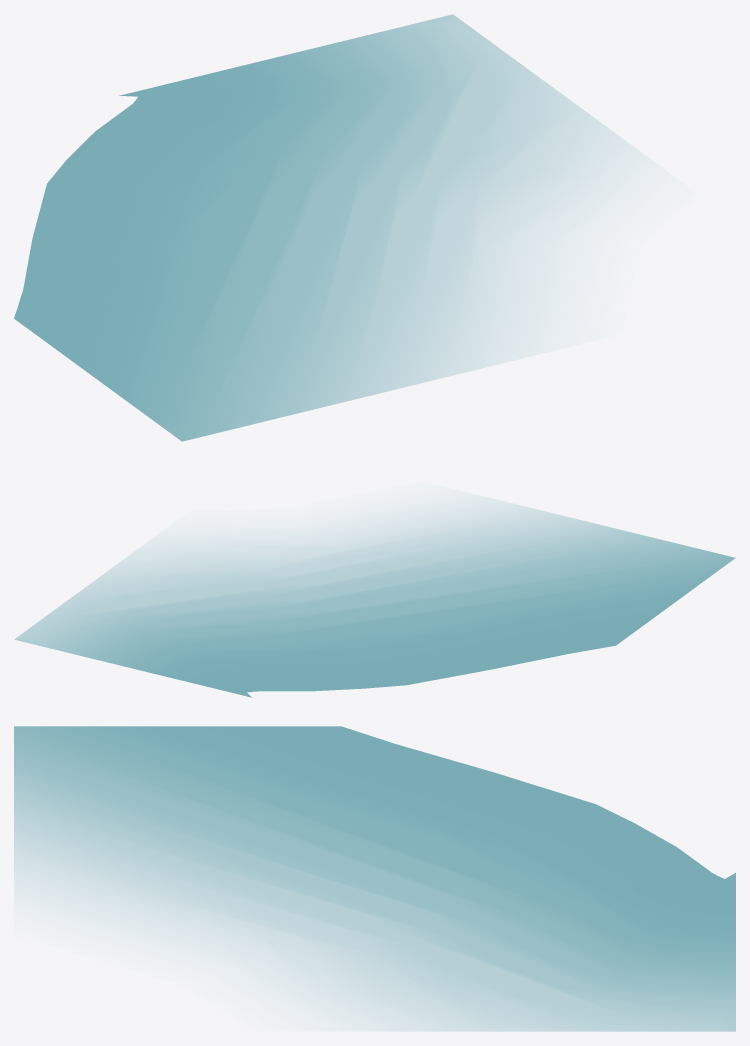
The picture shows the model from 3 angles, top to bottom: view 1: azimuth 30°, elevation 25°; view 2: azimuth 150°, elevation 25°; view 3: azimuth 270°, elevation 25°; orthographic projection. The views are drawn at different scales.
Visible parts, largest first — view 1: city; view 2: city; view 3: city.
Part boxes in pixels (<box>): city: <box>14,14,639,441</box>; city: <box>14,498,735,697</box>; city: <box>14,726,735,1031</box>.
Bounding box in the file's own units: 500 × 0 × 500.
